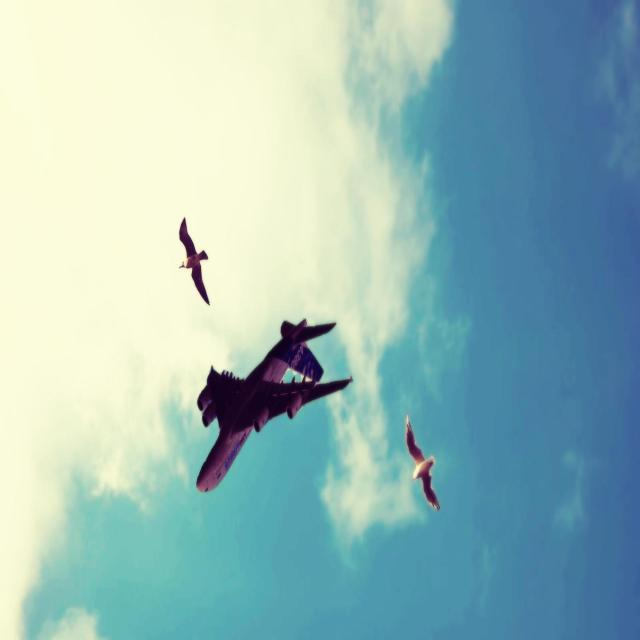airplane: (195, 316, 353, 493)
